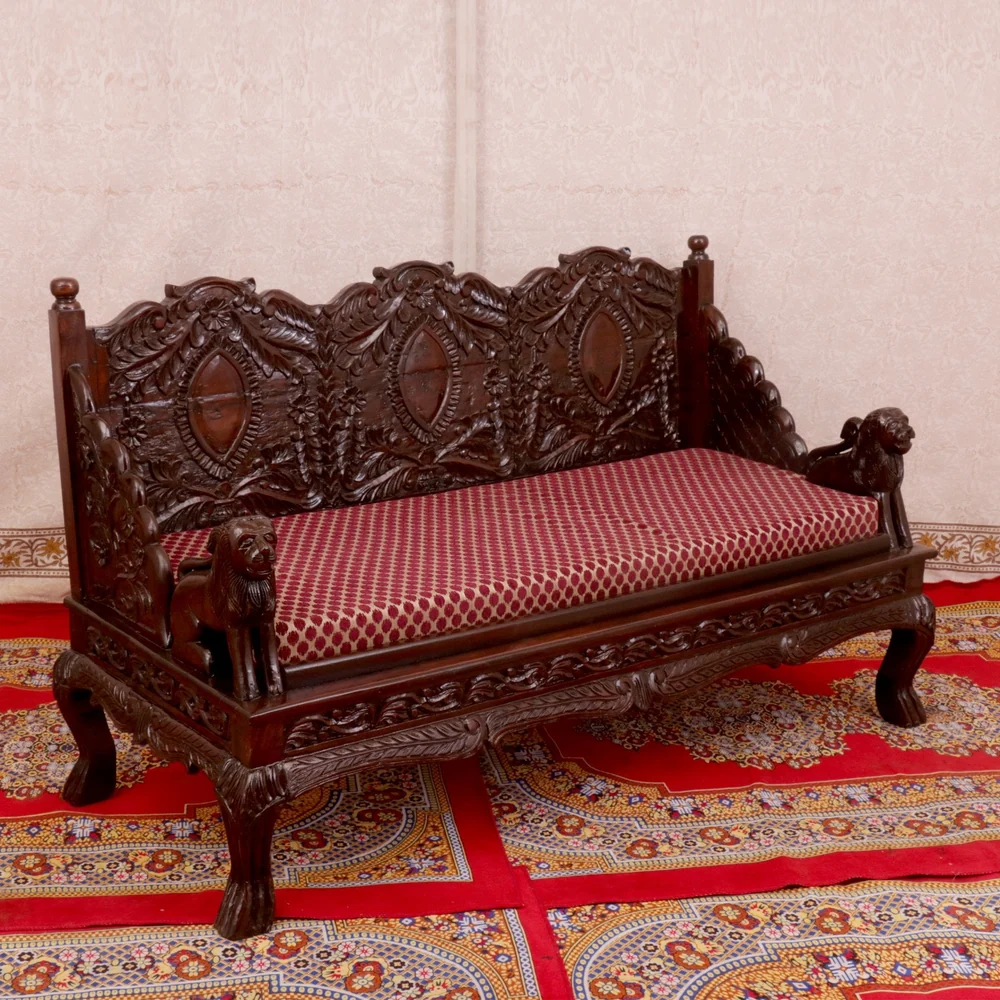3seatersofa: (49, 236, 933, 938)
backrest: (94, 248, 680, 531)
base: (57, 548, 934, 791)
leftarmrest: (677, 237, 913, 548)
leg: (214, 759, 287, 939), (54, 651, 115, 805), (876, 596, 934, 727)
rightarmrest: (49, 278, 281, 700)
seat: (277, 451, 875, 665)
